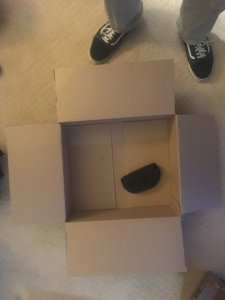innerbox: (63, 124, 180, 217)
outerbox: (11, 67, 218, 276)
product: (122, 162, 163, 193)
